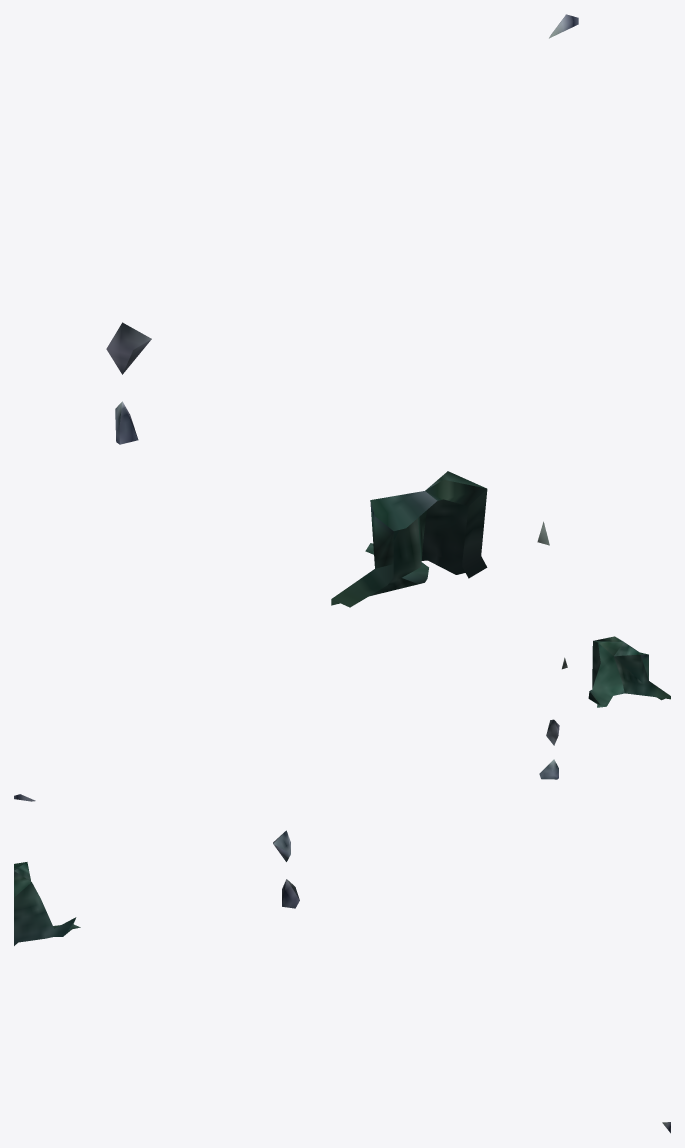
3 renders of one model, top to bottom at view 1: azimuth 30°, elevation 25°; view 2: azimuth 150°, elevation 25°; view 3: azimuth 270°, elevation 25°, orthographic. The views are drawn at different scales.
Visible parts, largest first — view 1: 30436272704370625606_0; view 2: 30436272704370625606_0; view 3: 30436272704370625606_0.
Part boxes in pixels (x1,y1,x2,y2): 30436272704370625606_0: (106, 14, 578, 607); 30436272704370625606_0: (14, 636, 670, 801); 30436272704370625606_0: (14, 830, 670, 1133).
Size of the model in its own units: 19.17 by 2.93 by 22.68.
1 material, 1 textured.
